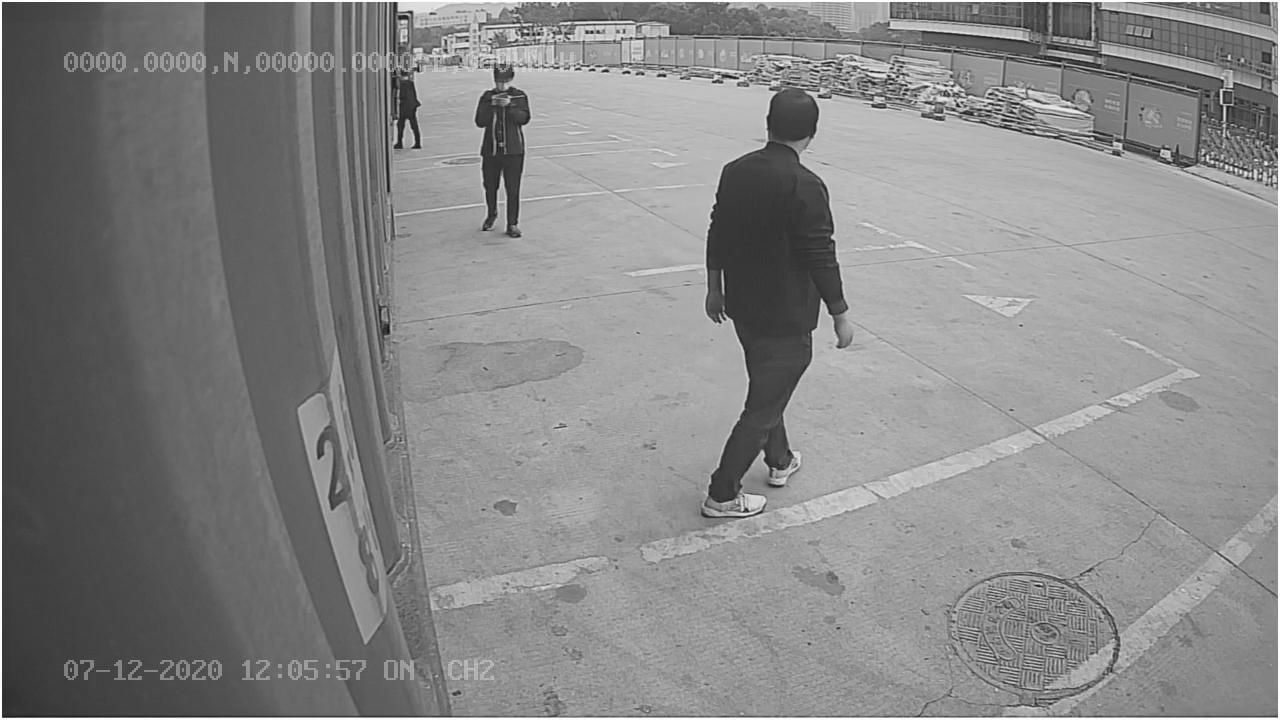person: (701, 83, 853, 517)
